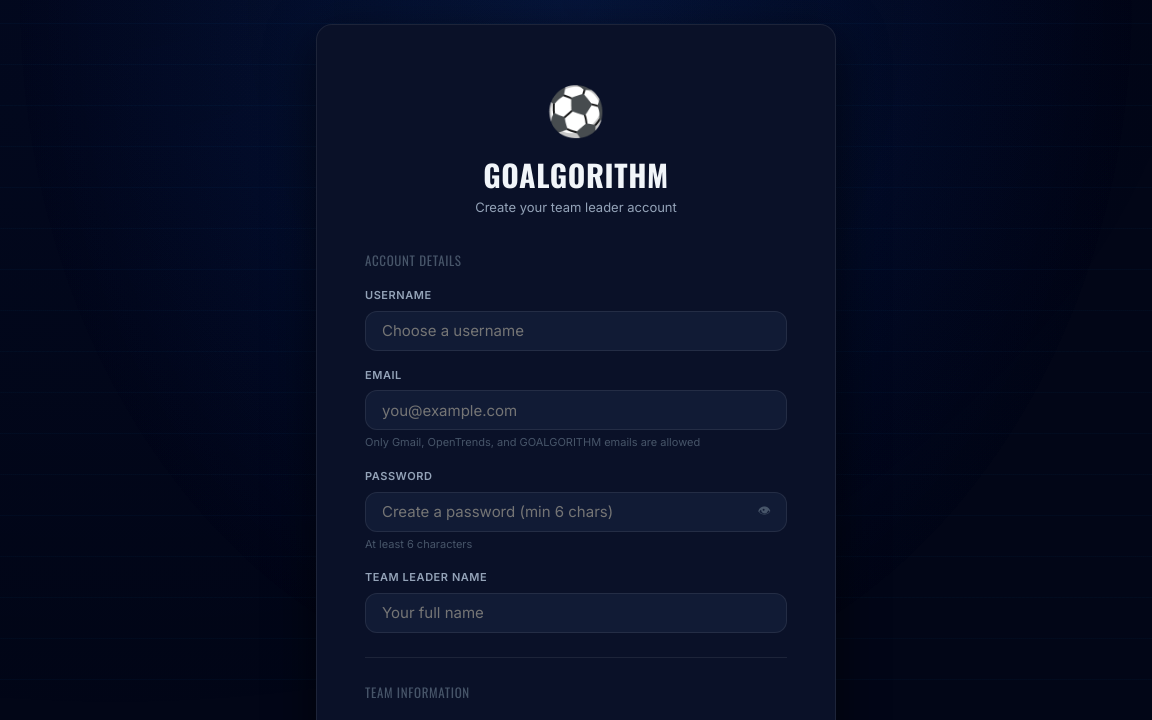
RegisterView › shows error on registration failure
Type "testuser" into the field labelled "Username" at (576, 331), box 365,311 -> 787,351
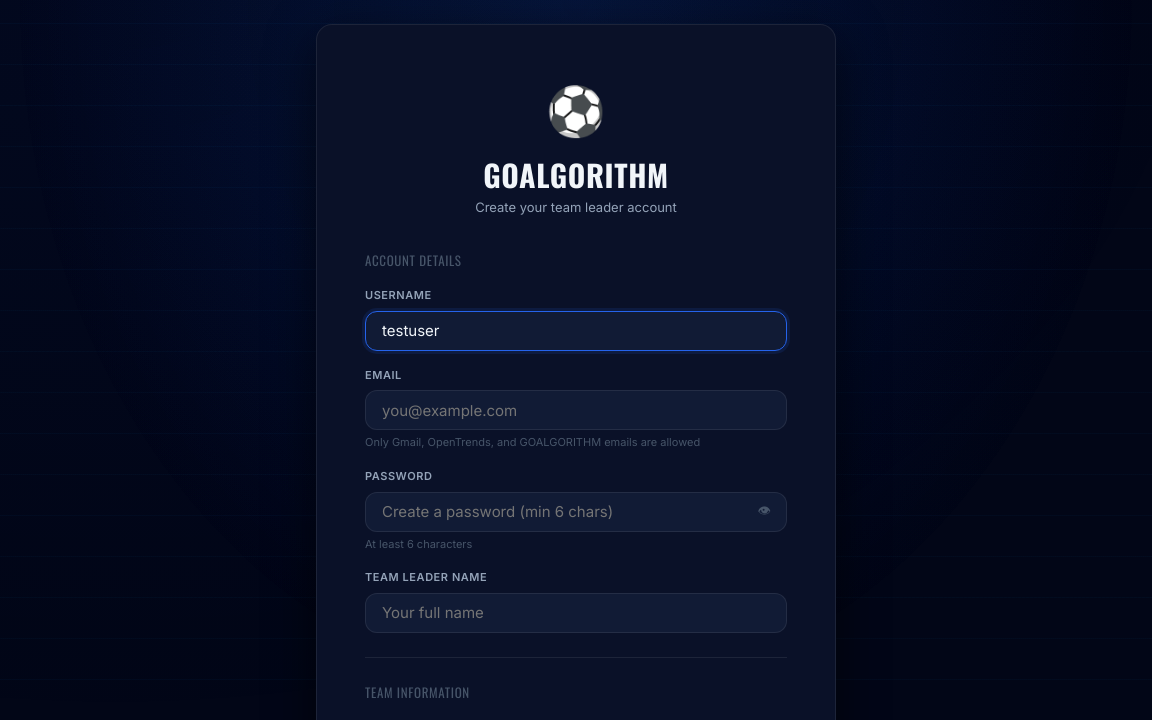
Type "test@gmail.com" into the field labelled "Email" at (576, 410), box 365,390 -> 787,430
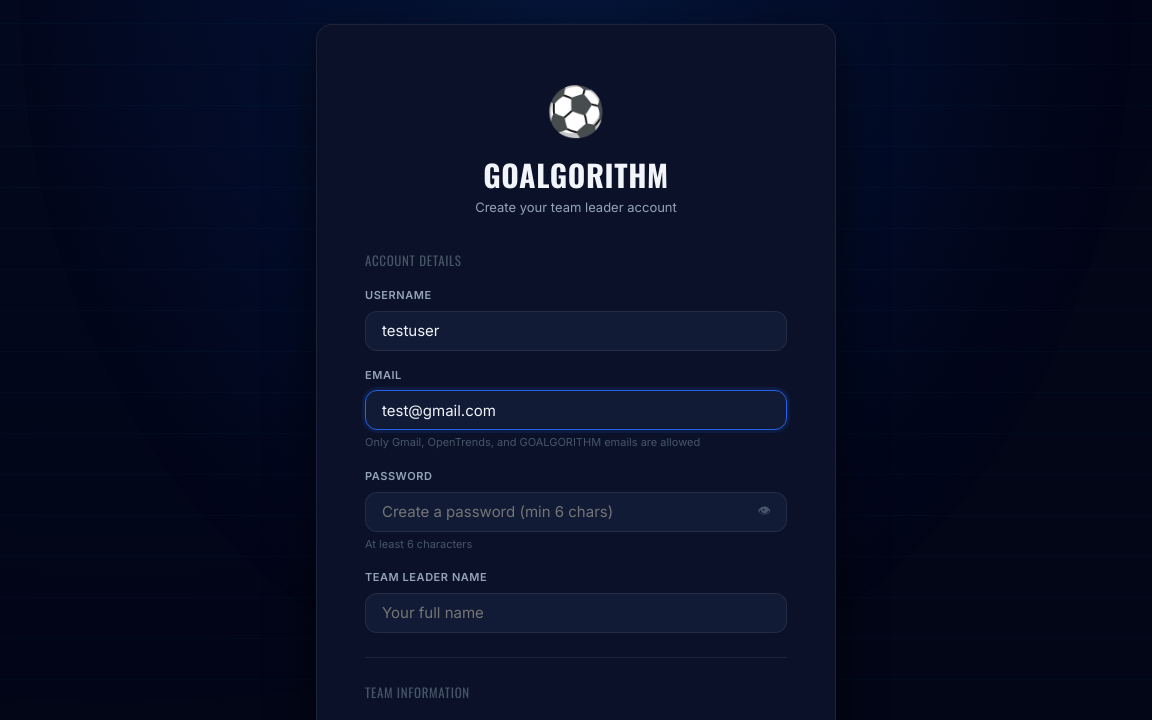
Type "password123" into the password field labelled "Password" at (576, 512), box 365,492 -> 787,532
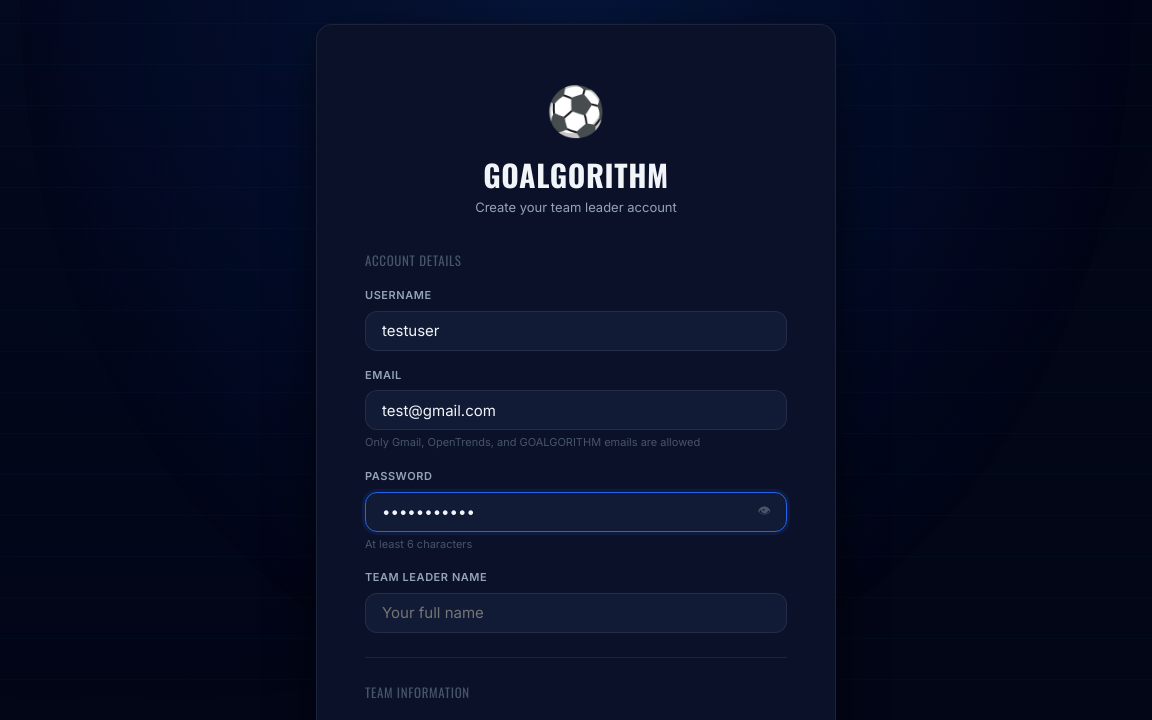
Type "John Doe" into the field labelled "Team Leader Name" at (576, 613), box 365,593 -> 787,633
(page scrolled)
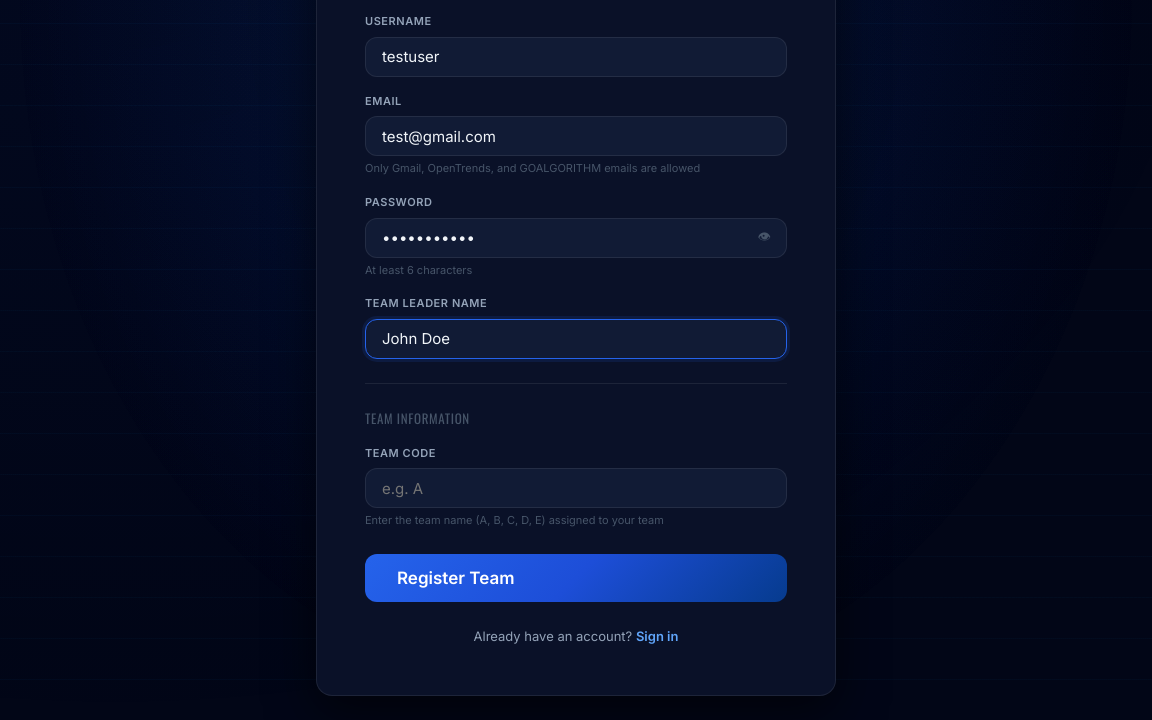
Type "A" into the field labelled "Team Code" at (576, 488), box 365,468 -> 787,508
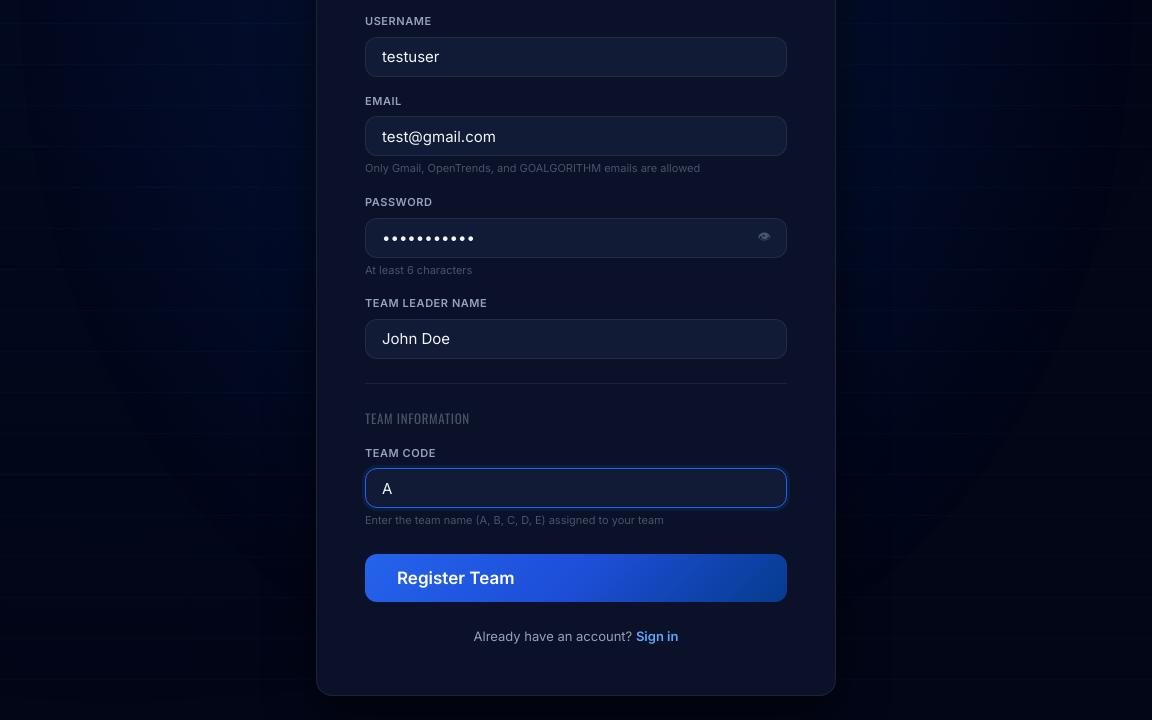
Click the button "Register Team" at (456, 578), box 365,554 -> 787,602
(page scrolled)
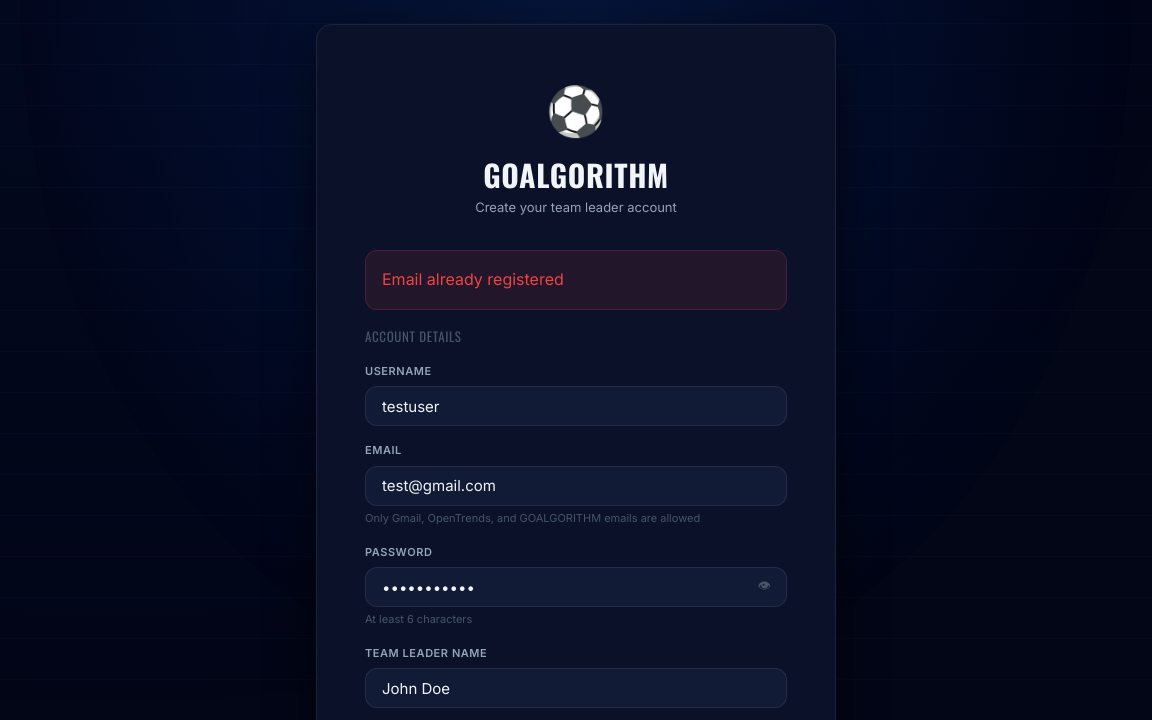
Expected: the text "Email already registered" is shown, 365,250 -> 787,310
